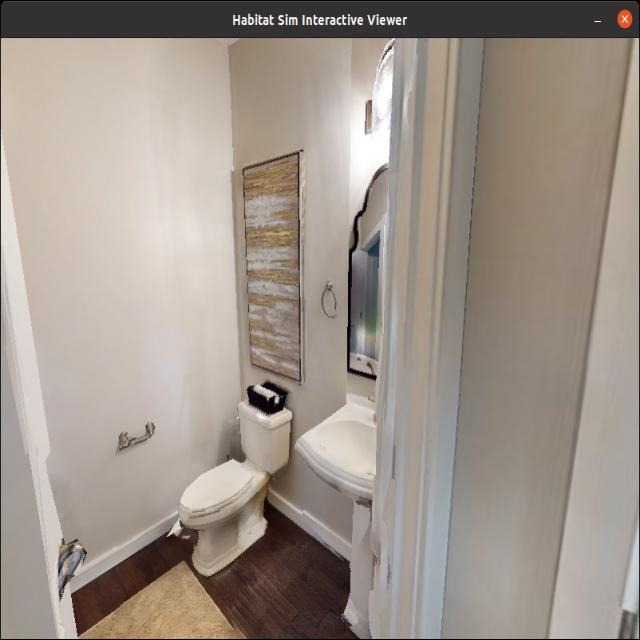sink: (302, 380, 399, 618)
toilet: (162, 372, 304, 594)
